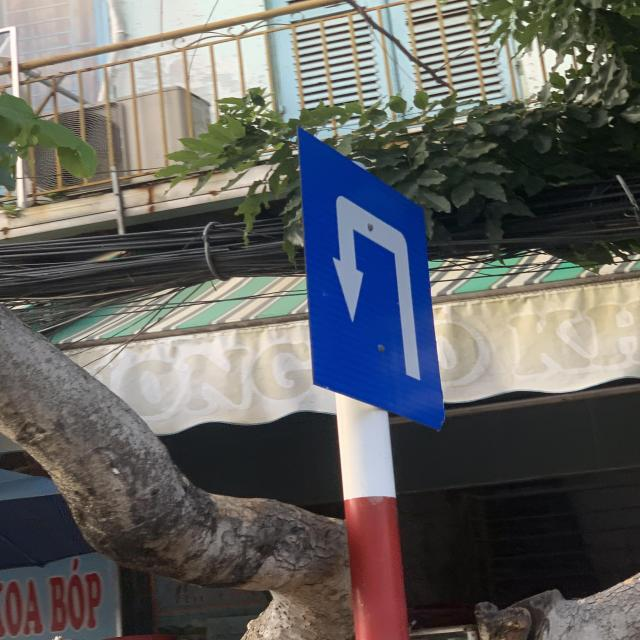Den_Giao_Thong: (295, 128, 440, 424)
